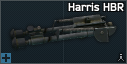Harris HBR Bipod: (0, 0, 127, 64)
